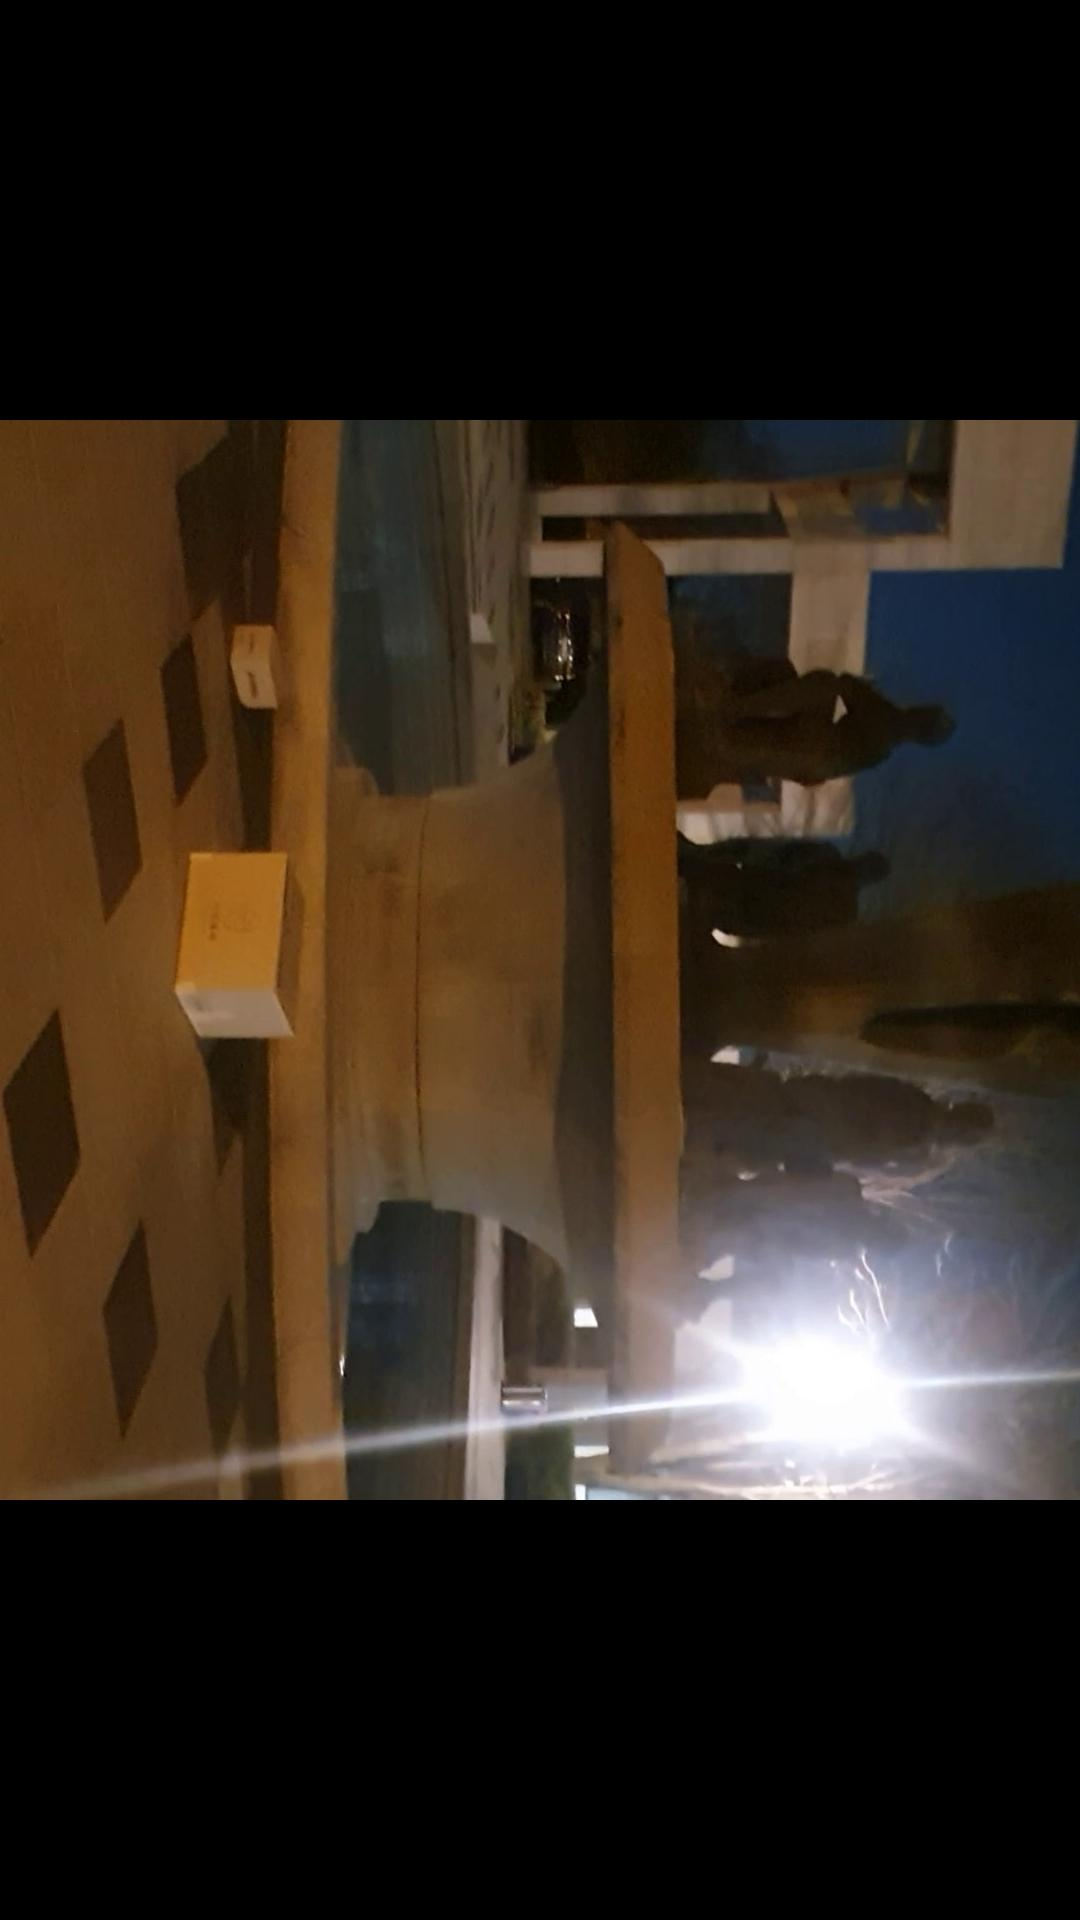Box: (171, 858, 322, 1036), (218, 608, 305, 709)
